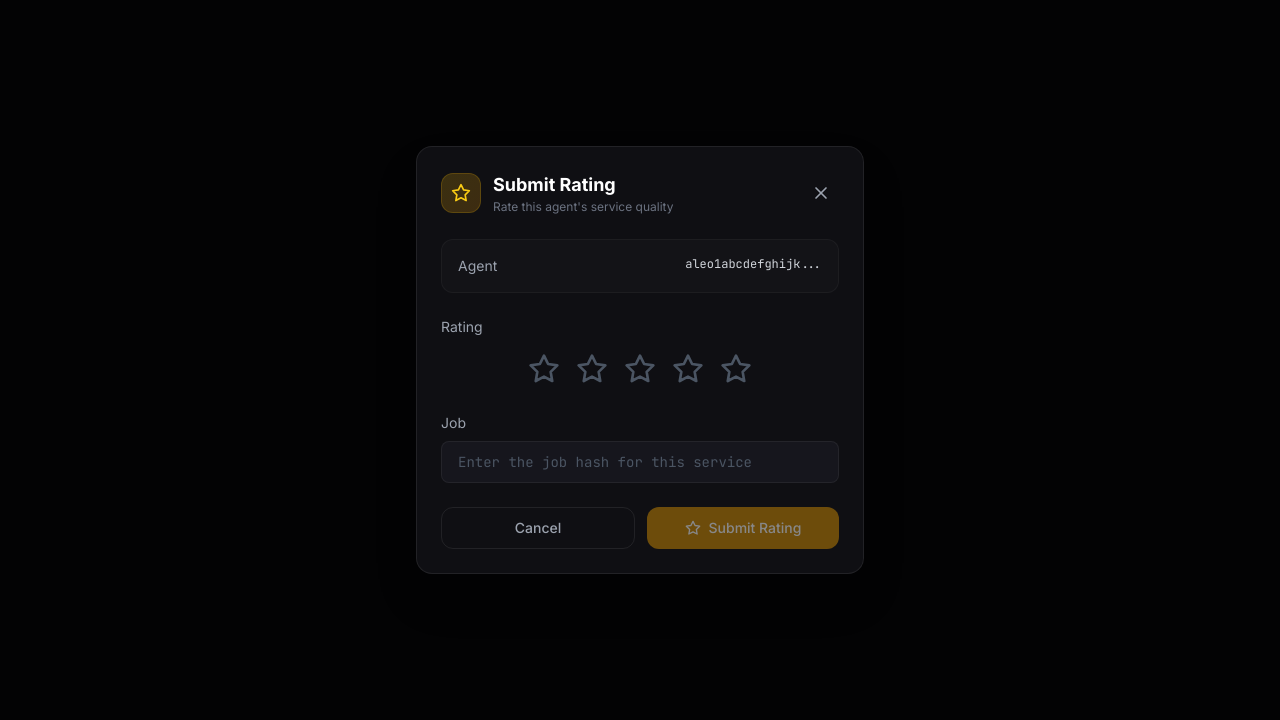
it: RatingForm › enables submit when rating and job hash are provided
Click the radio button named "4 stars" at [688, 369], box [668,349,708,389]
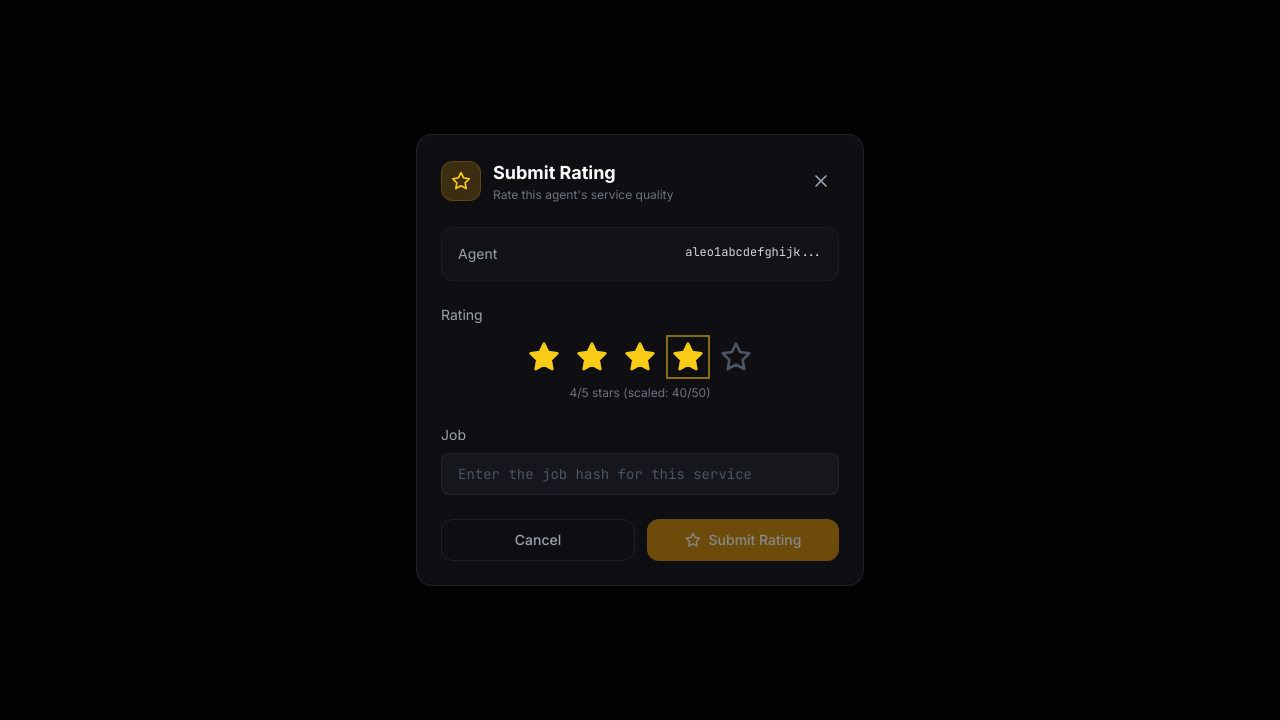
// Type job hash
Type "job123" into the field with placeholder "Enter the job hash for this service" at [640, 474], box [441,453,839,495]
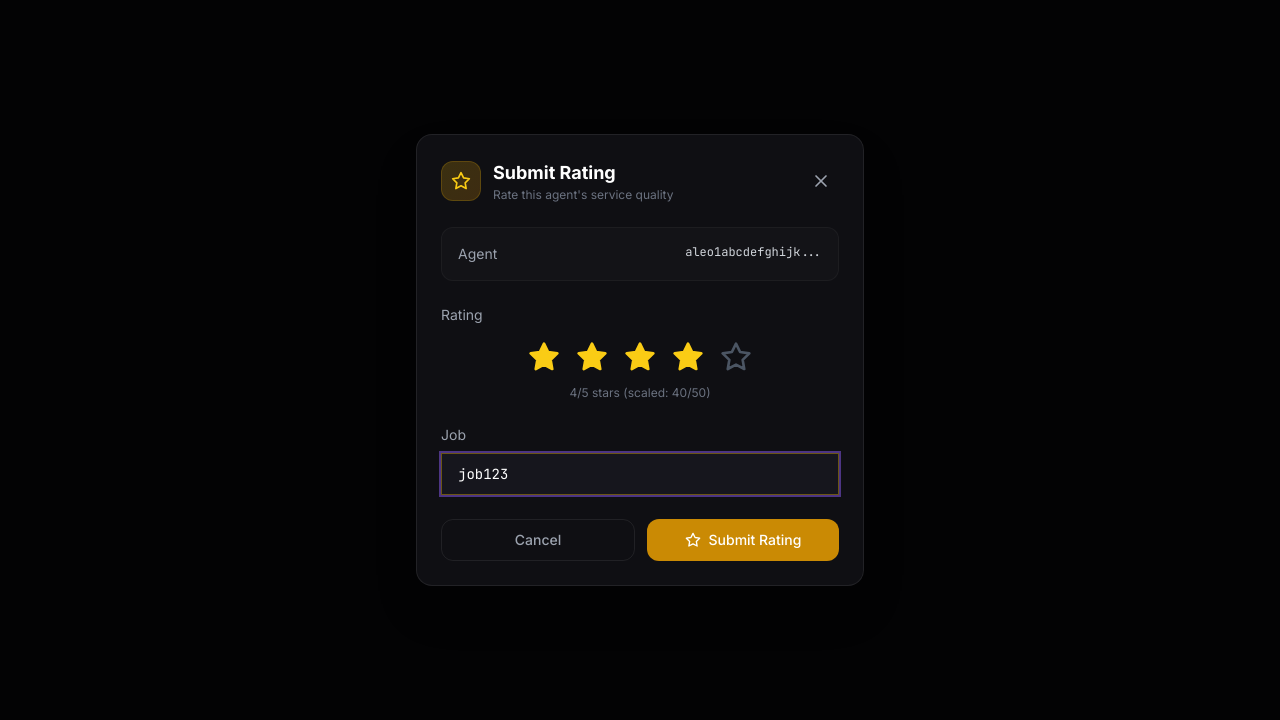
Check: the button "Submit Rating" is enabled, box [647,519,839,561]
